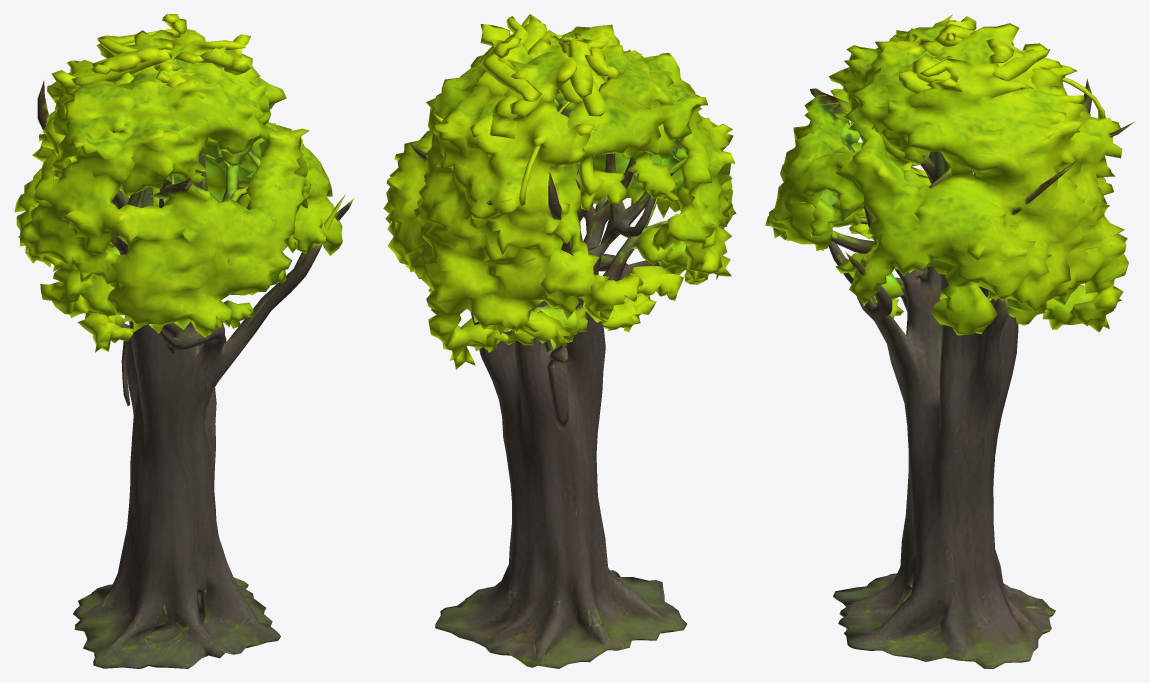
Rendered from normal_tree.glb.
3 renders of one model, left to right at view 1: azimuth 30°, elevation 25°; view 2: azimuth 150°, elevation 25°; view 3: azimuth 270°, elevation 25°, orthographic.
Size of the model in its own units: 1.04 by 1.91 by 1.07.
Materials: 1 (1 with a texture image).
